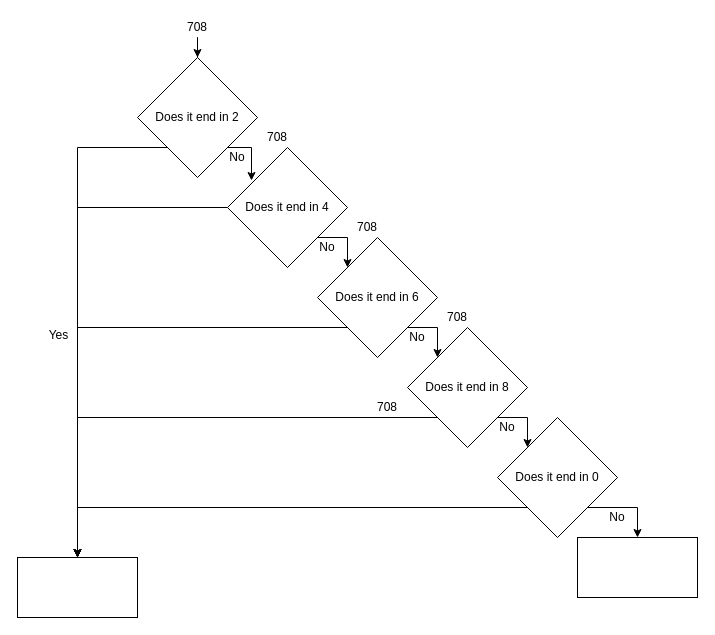
Some shapes in this 715 by 635 pixel diagram are drawn without their labels. The centre of each missing label's shape, as x and y in pixels:
"Even" goes at (x=77, y=587).
"Odd" goes at (x=637, y=567).
